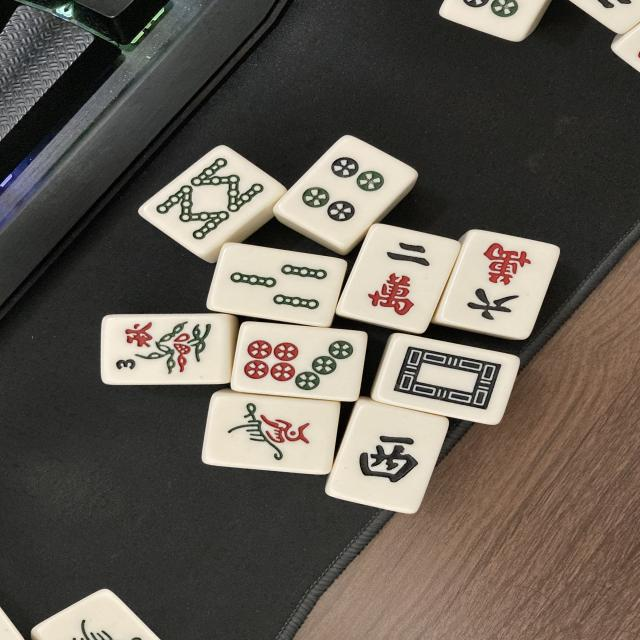1B: (210, 396, 337, 474)
2C: (338, 228, 455, 336)
3B: (216, 251, 340, 320)
3S: (102, 316, 225, 388)
4D: (276, 134, 416, 253)
6C: (438, 232, 561, 342)
7D: (230, 329, 361, 398)
8B: (146, 150, 279, 253)
WD: (376, 336, 516, 426)
WW: (339, 412, 434, 505)
